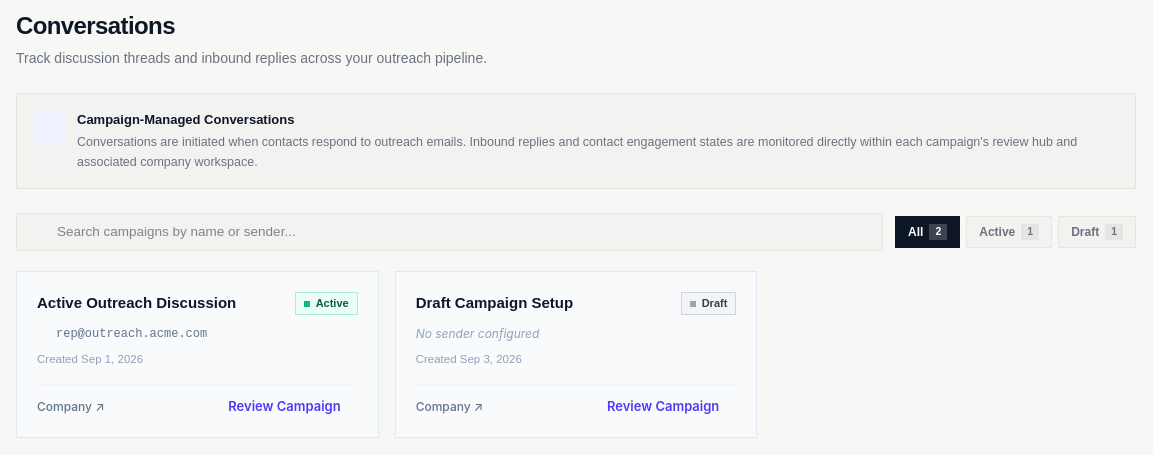
Test: ConversationsIndexComponent › filters conversations by status pill
The image size is (1153, 455).
Expected: the heading "Active Outreach Discussion" is shown, [37, 292, 236, 315]
Click the button "Draft 1" at (1097, 232), box [1058, 216, 1136, 248]
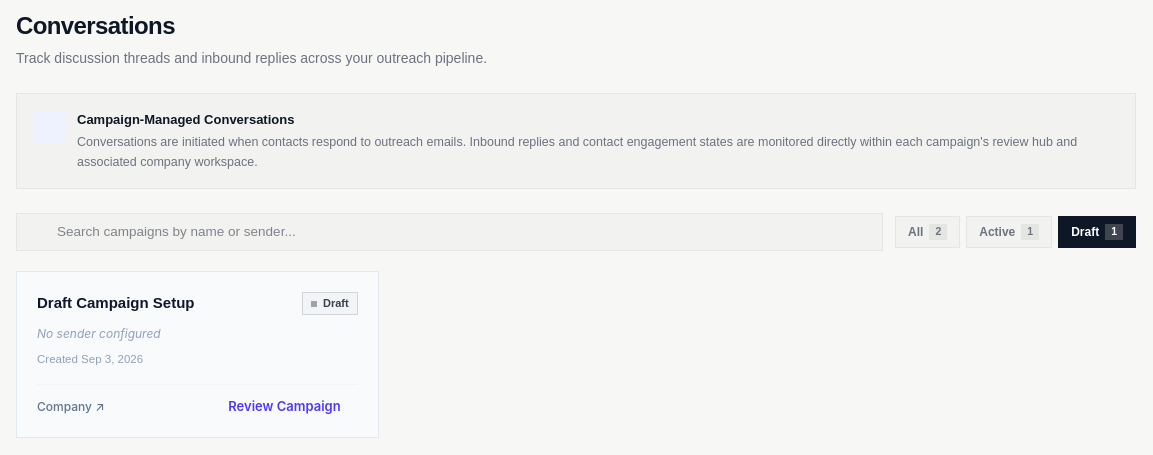
Expected: the heading "Draft Campaign Setup" is shown, [37, 292, 194, 315]
Now the heading "Active Outreach Discussion" is gone
